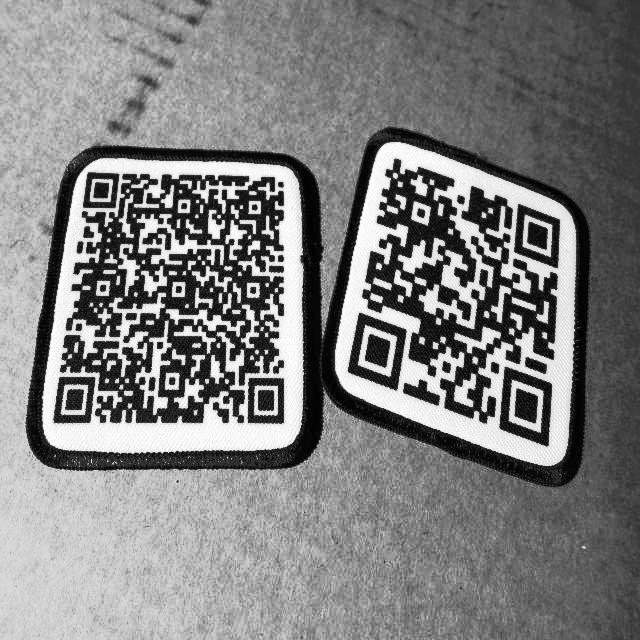qr_code: (347, 156, 560, 448), (53, 172, 284, 424)
